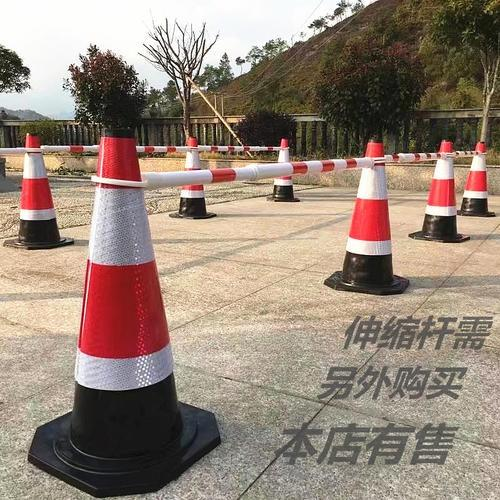cone_barrel: (40, 129, 202, 472), (330, 143, 405, 294), (10, 130, 69, 242), (413, 138, 463, 240), (172, 136, 213, 220), (459, 134, 490, 216), (267, 137, 298, 202)
